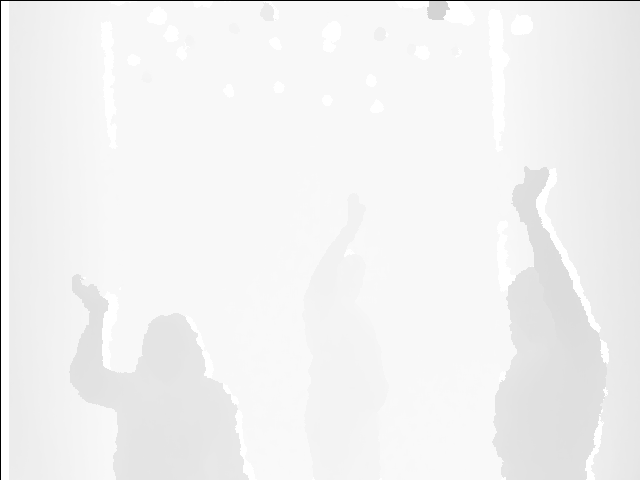hand: (508, 164, 550, 217), (69, 270, 111, 318), (343, 190, 368, 233)
